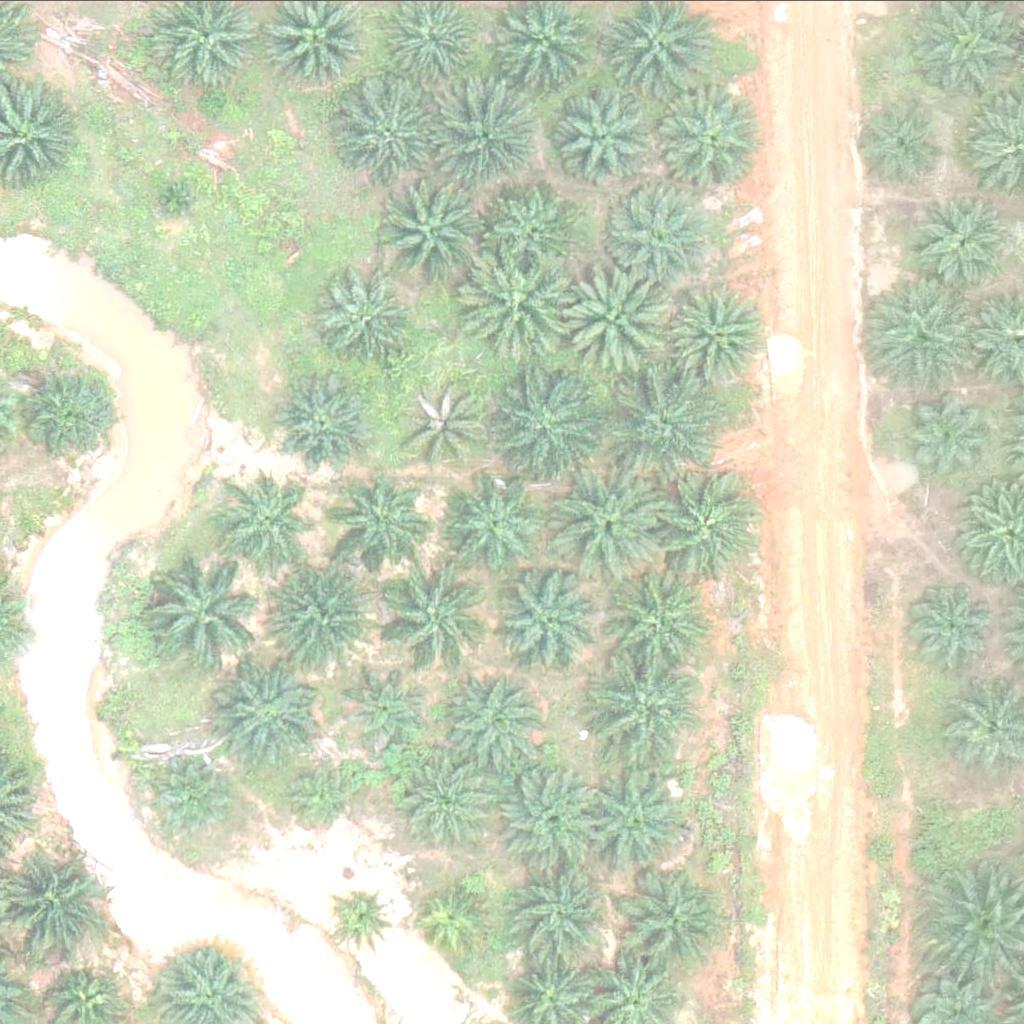Kelapa_Sawit: (652, 77, 766, 190), (431, 78, 544, 191), (652, 466, 765, 579), (142, 553, 255, 666), (215, 659, 328, 772), (493, 761, 606, 874), (581, 764, 694, 877), (620, 862, 733, 975), (859, 279, 973, 391), (373, 555, 487, 667), (590, 657, 704, 769), (375, 174, 488, 286), (458, 251, 571, 363), (556, 264, 669, 376), (611, 362, 724, 474), (490, 366, 603, 478), (552, 468, 665, 580), (609, 567, 722, 679), (270, 564, 383, 676), (901, 575, 1002, 675), (561, 85, 662, 185), (605, 184, 706, 284), (316, 270, 417, 370), (336, 474, 437, 574), (498, 572, 599, 672), (449, 672, 550, 772), (515, 864, 616, 964), (906, 190, 1006, 290), (346, 82, 446, 182), (668, 285, 768, 385), (18, 364, 118, 464), (271, 373, 371, 473), (440, 474, 540, 574), (4, 857, 104, 957), (397, 749, 497, 849), (856, 98, 944, 186), (489, 186, 577, 274), (343, 661, 431, 749), (151, 756, 239, 844), (904, 387, 992, 474), (402, 377, 490, 464), (232, 475, 320, 562), (282, 757, 357, 832), (420, 881, 495, 956), (333, 884, 396, 947), (148, 177, 199, 227)
